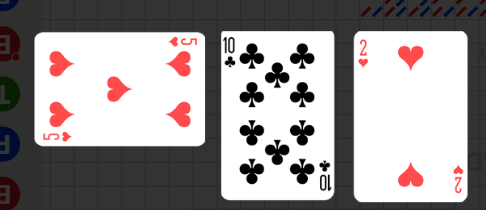10C: (318, 159, 333, 193), (224, 36, 238, 70)
5H: (42, 131, 74, 143)
